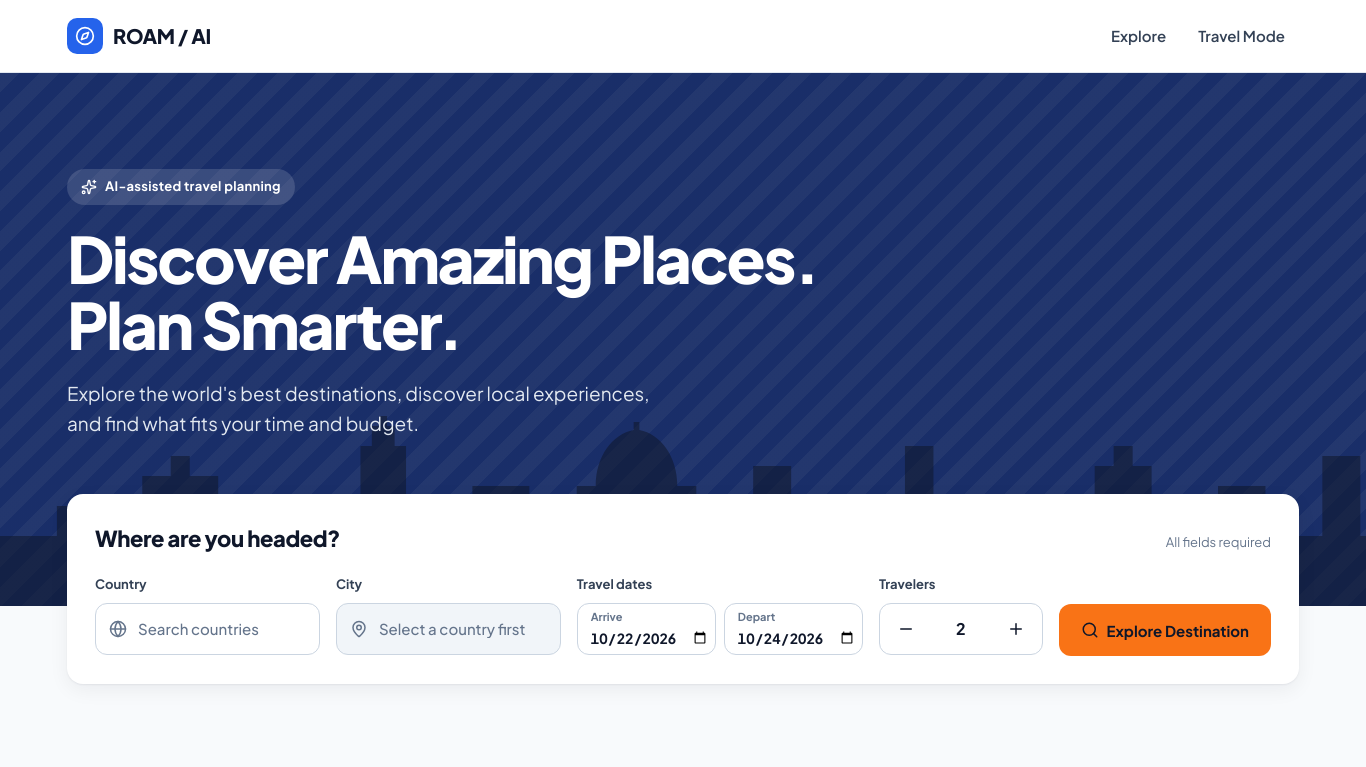
Test: HomePage › filters options as the traveler types and picks with the keyboard
Click the dropdown labelled "Country" at (207, 629), box [95,603,320,655]
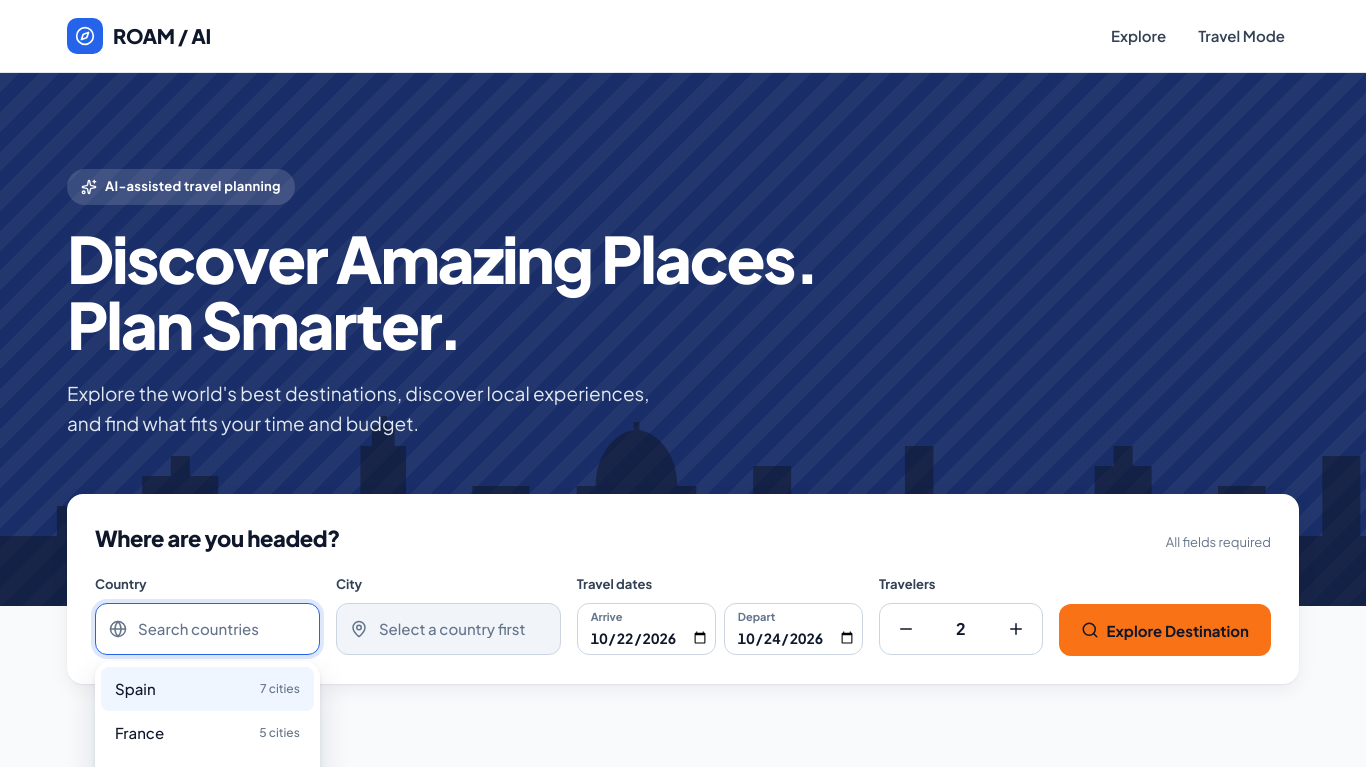
Type keys "jap"
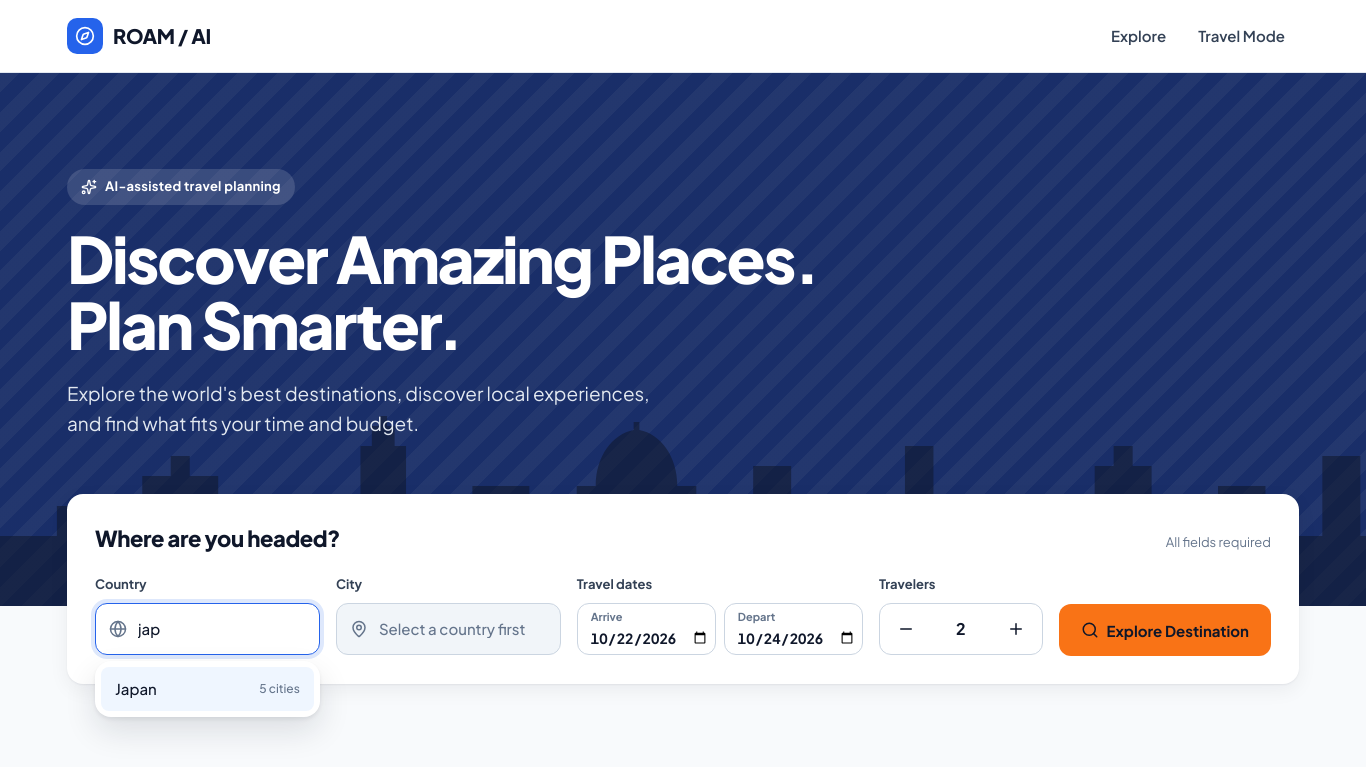
Now the number of options is 1, box [101,667,314,711]
Press Enter
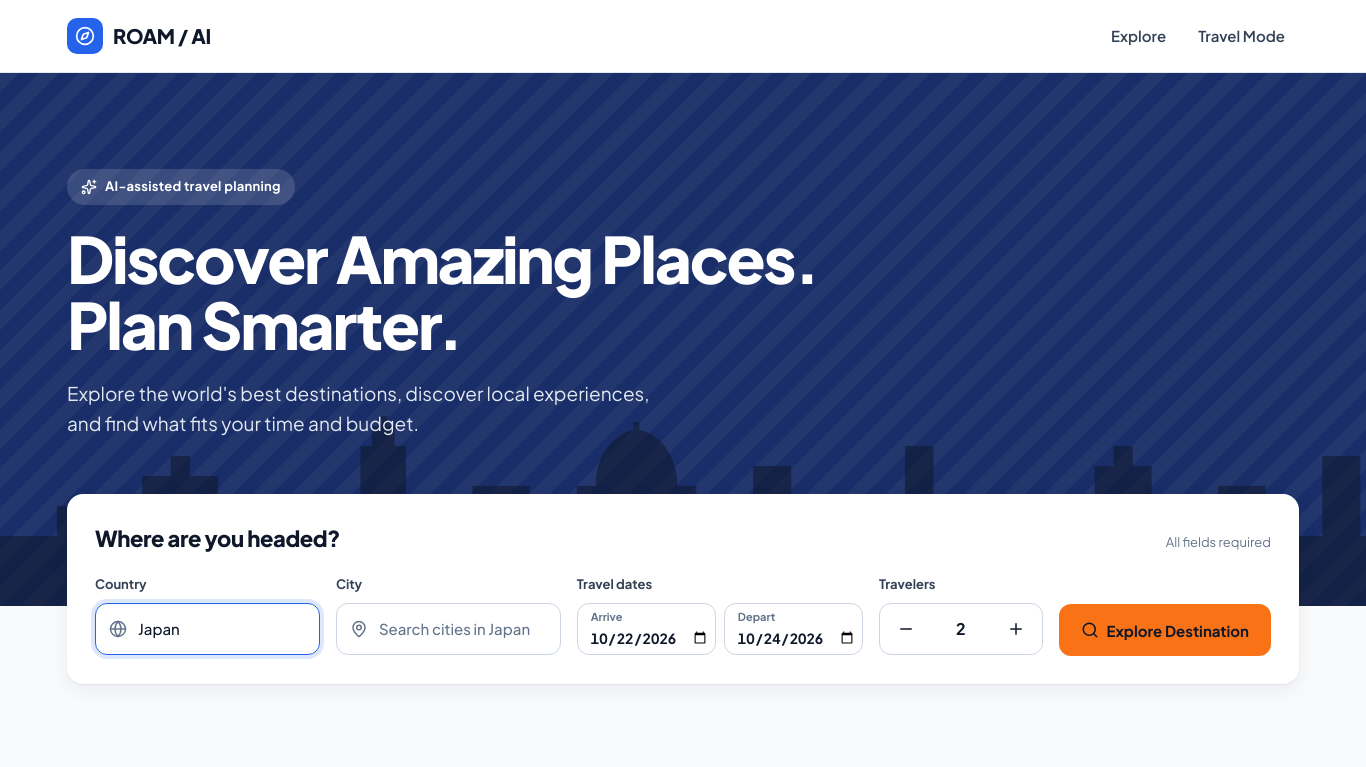
Now the dropdown labelled "Country" holds "Japan"
Now the list "Japan 5 cities" is gone
Click the dropdown labelled "Country" at (207, 629), box [95,603,320,655]
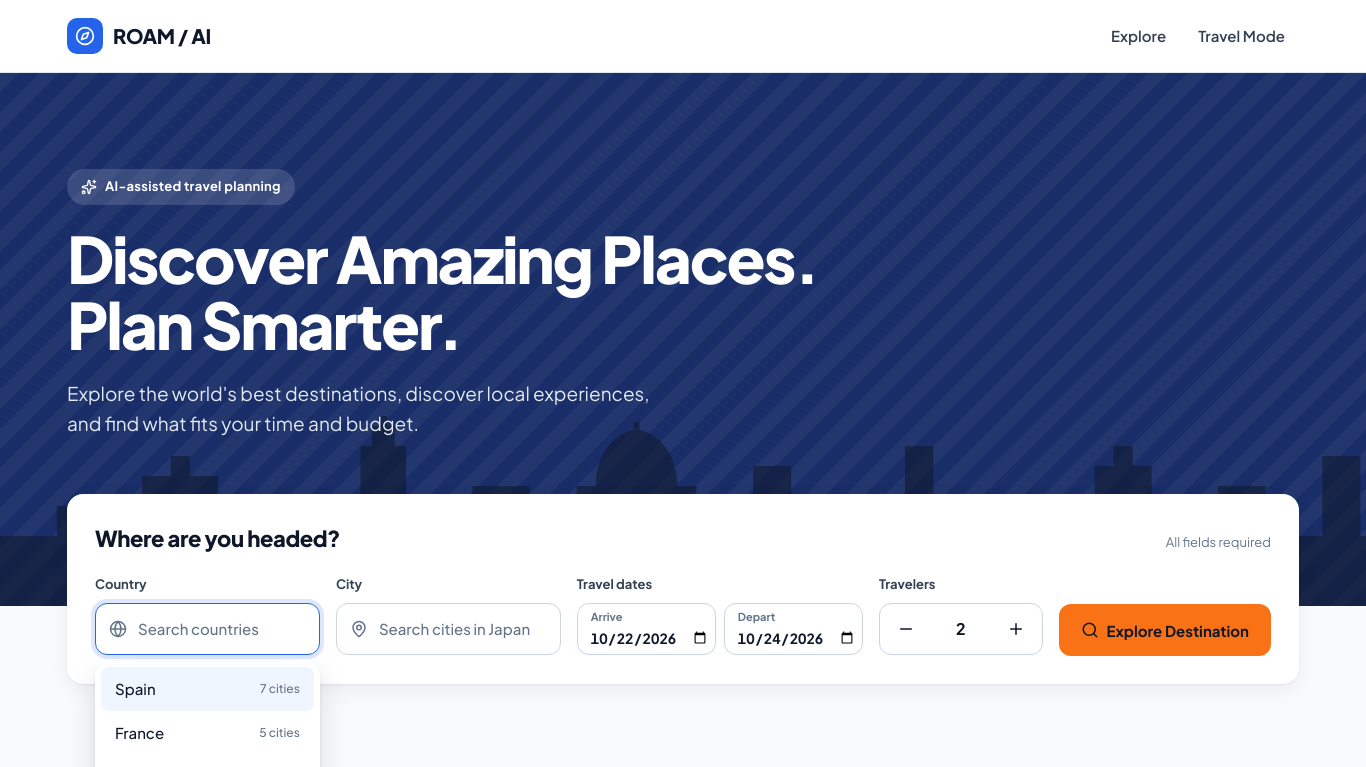
Type keys "zzz"
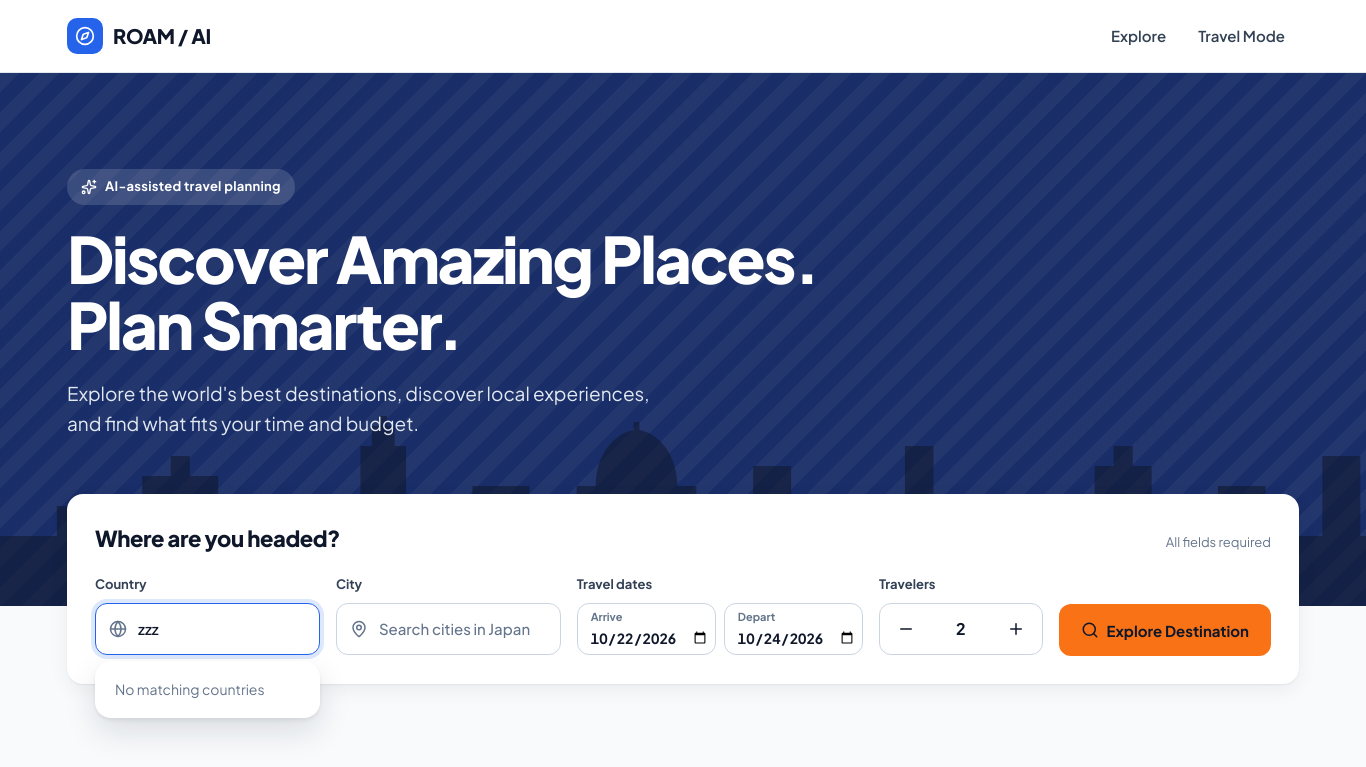
Now the list item "No matching countries" is shown, box [115,680,265,698]
